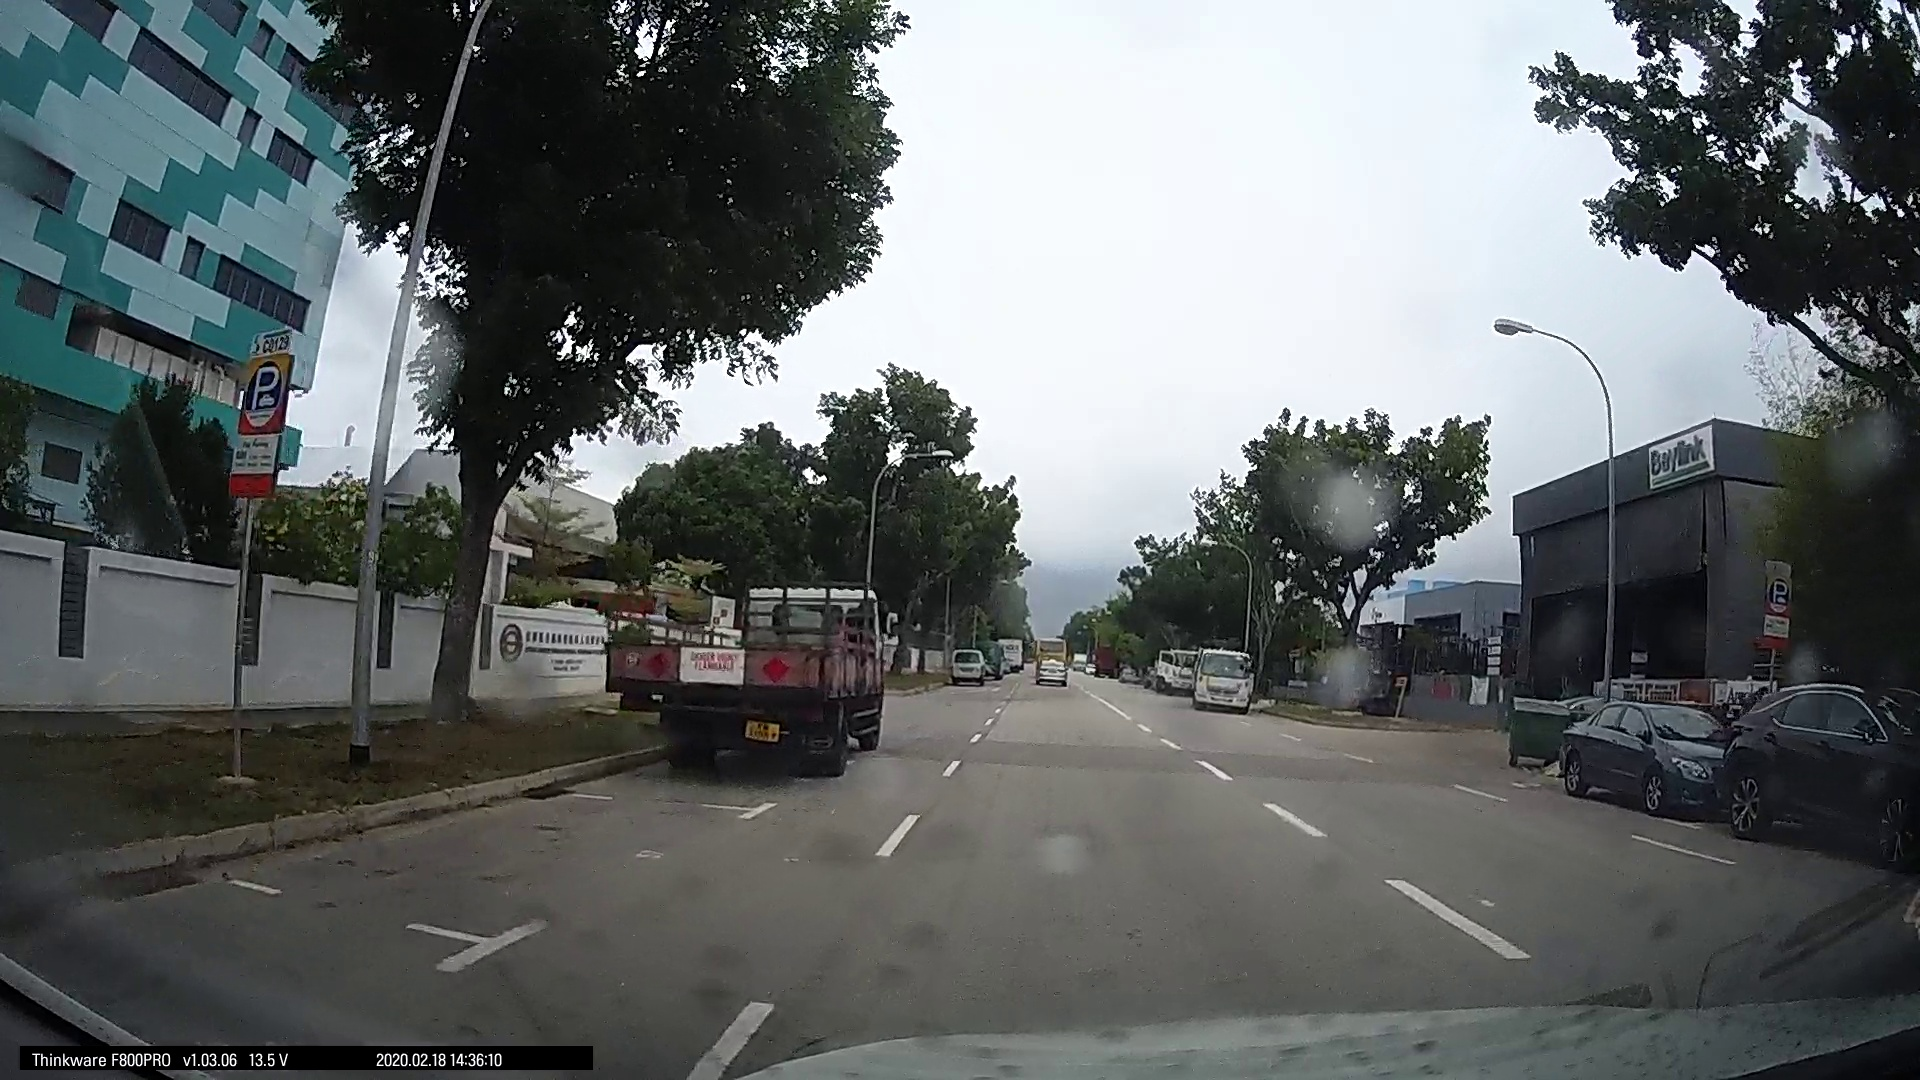Heavy Vehicle: (621, 564, 899, 771)
Light Vehicle: (1712, 678, 1909, 851), (1556, 692, 1739, 818), (1180, 644, 1255, 712), (945, 642, 992, 684), (1027, 644, 1068, 683)
